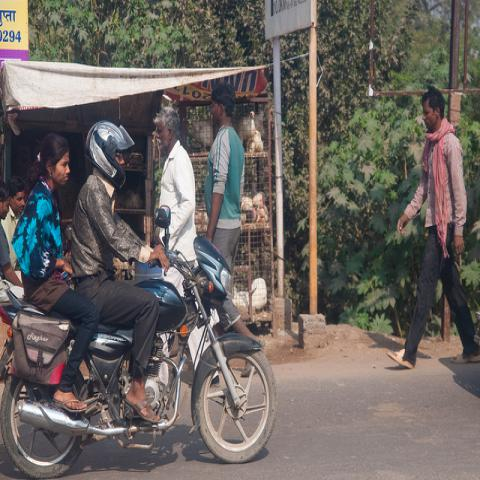motorcycle: (1, 246, 272, 472)
